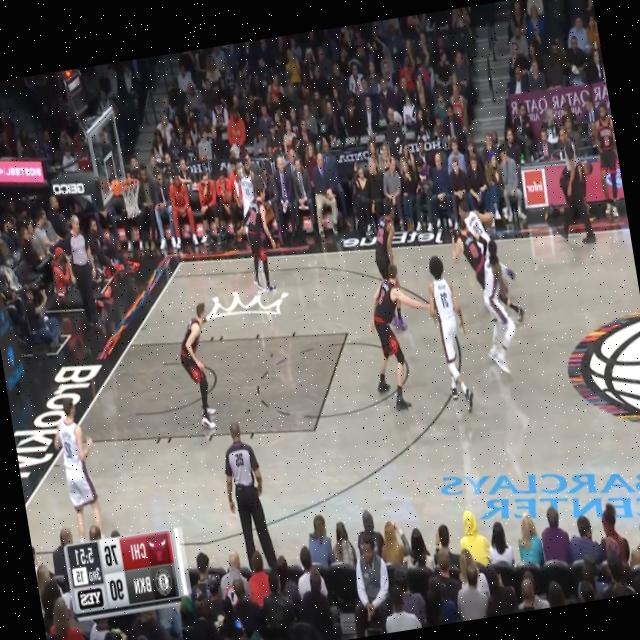no foul: (345, 242, 508, 428), (448, 188, 538, 374)
